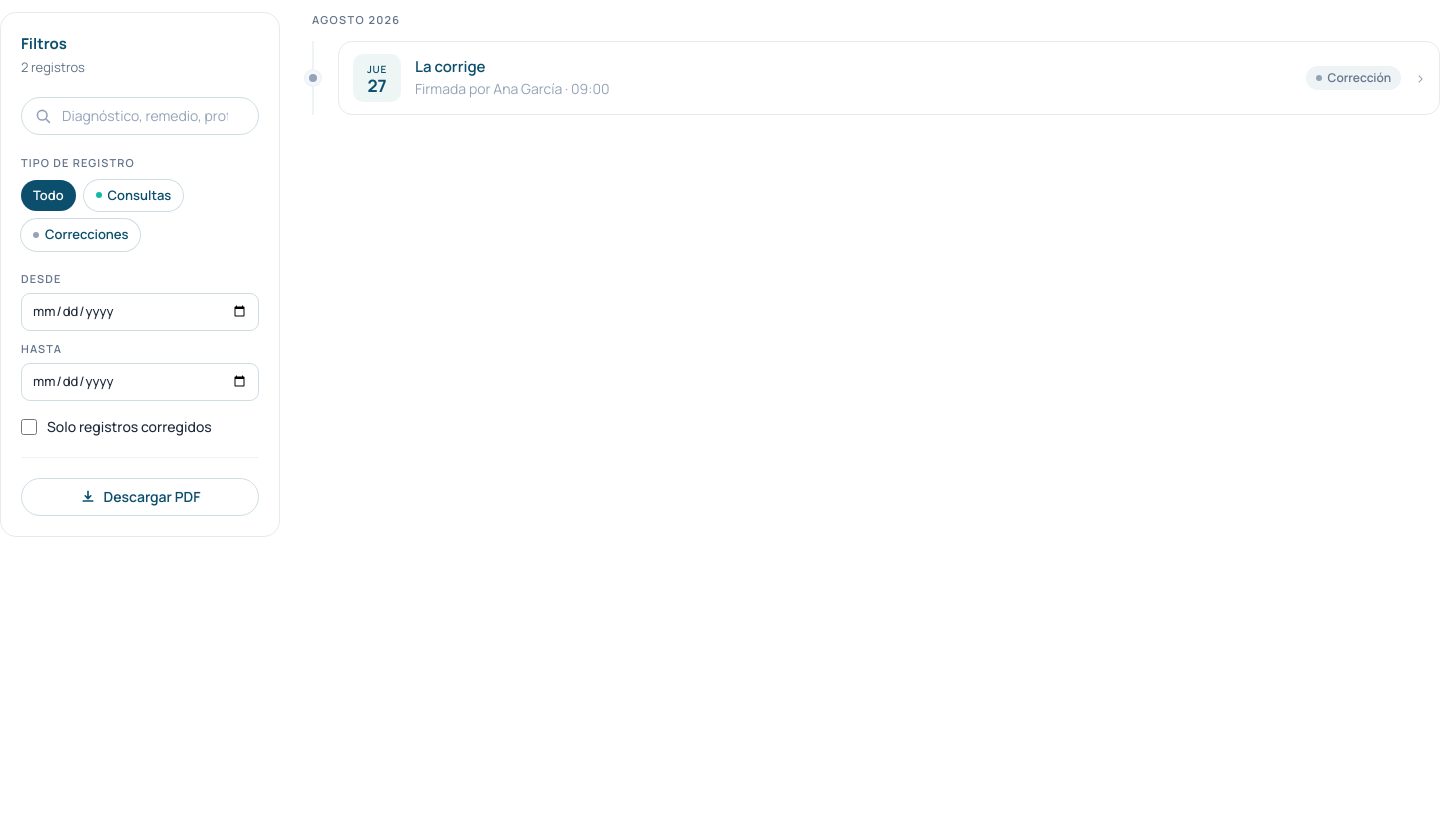
Test: ClinicalRecord › listado › con un filtro que deja afuera la corrección, la original se muestra en la línea de tiempo
Check: the text "La corrige" is shown, box [415,56,486,77]
Check: the text "La original" is not shown
Click the radio button labelled "Consultas".
click(133, 195)  # box [84,180,183,211]
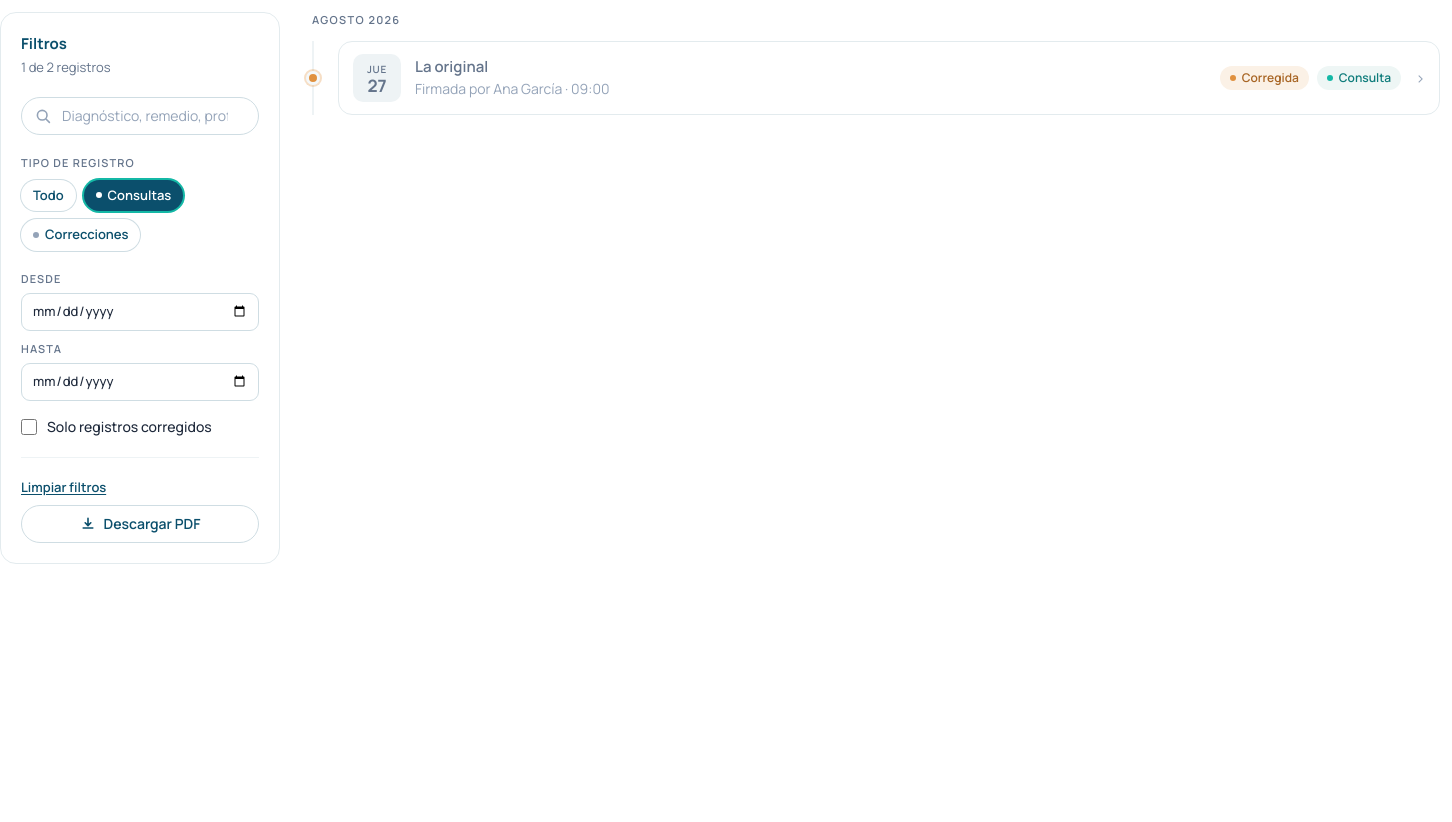
Check: the text "La original" is shown, box [415,56,488,77]
Check: the button "La corrige" is gone
